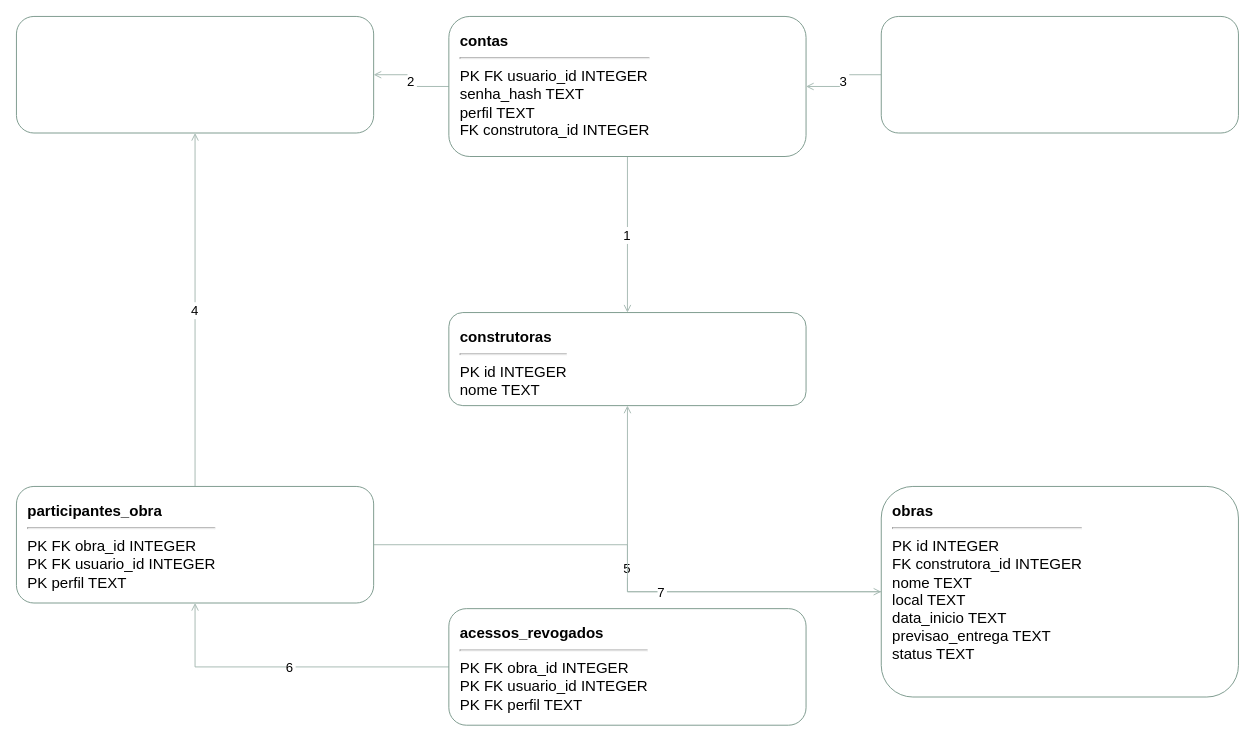
Image size: 1255x742. Some labels were removed from this diagram. Each missing label, with the centre of its shape:
"fotos_perfil PK FK usuario_id INTEGER tipo TEXT conteudo BLOB" belongs at pixel 1059 74.
"usuarios PK id INTEGER nome TEXT email TEXT" belongs at pixel 195 74.
